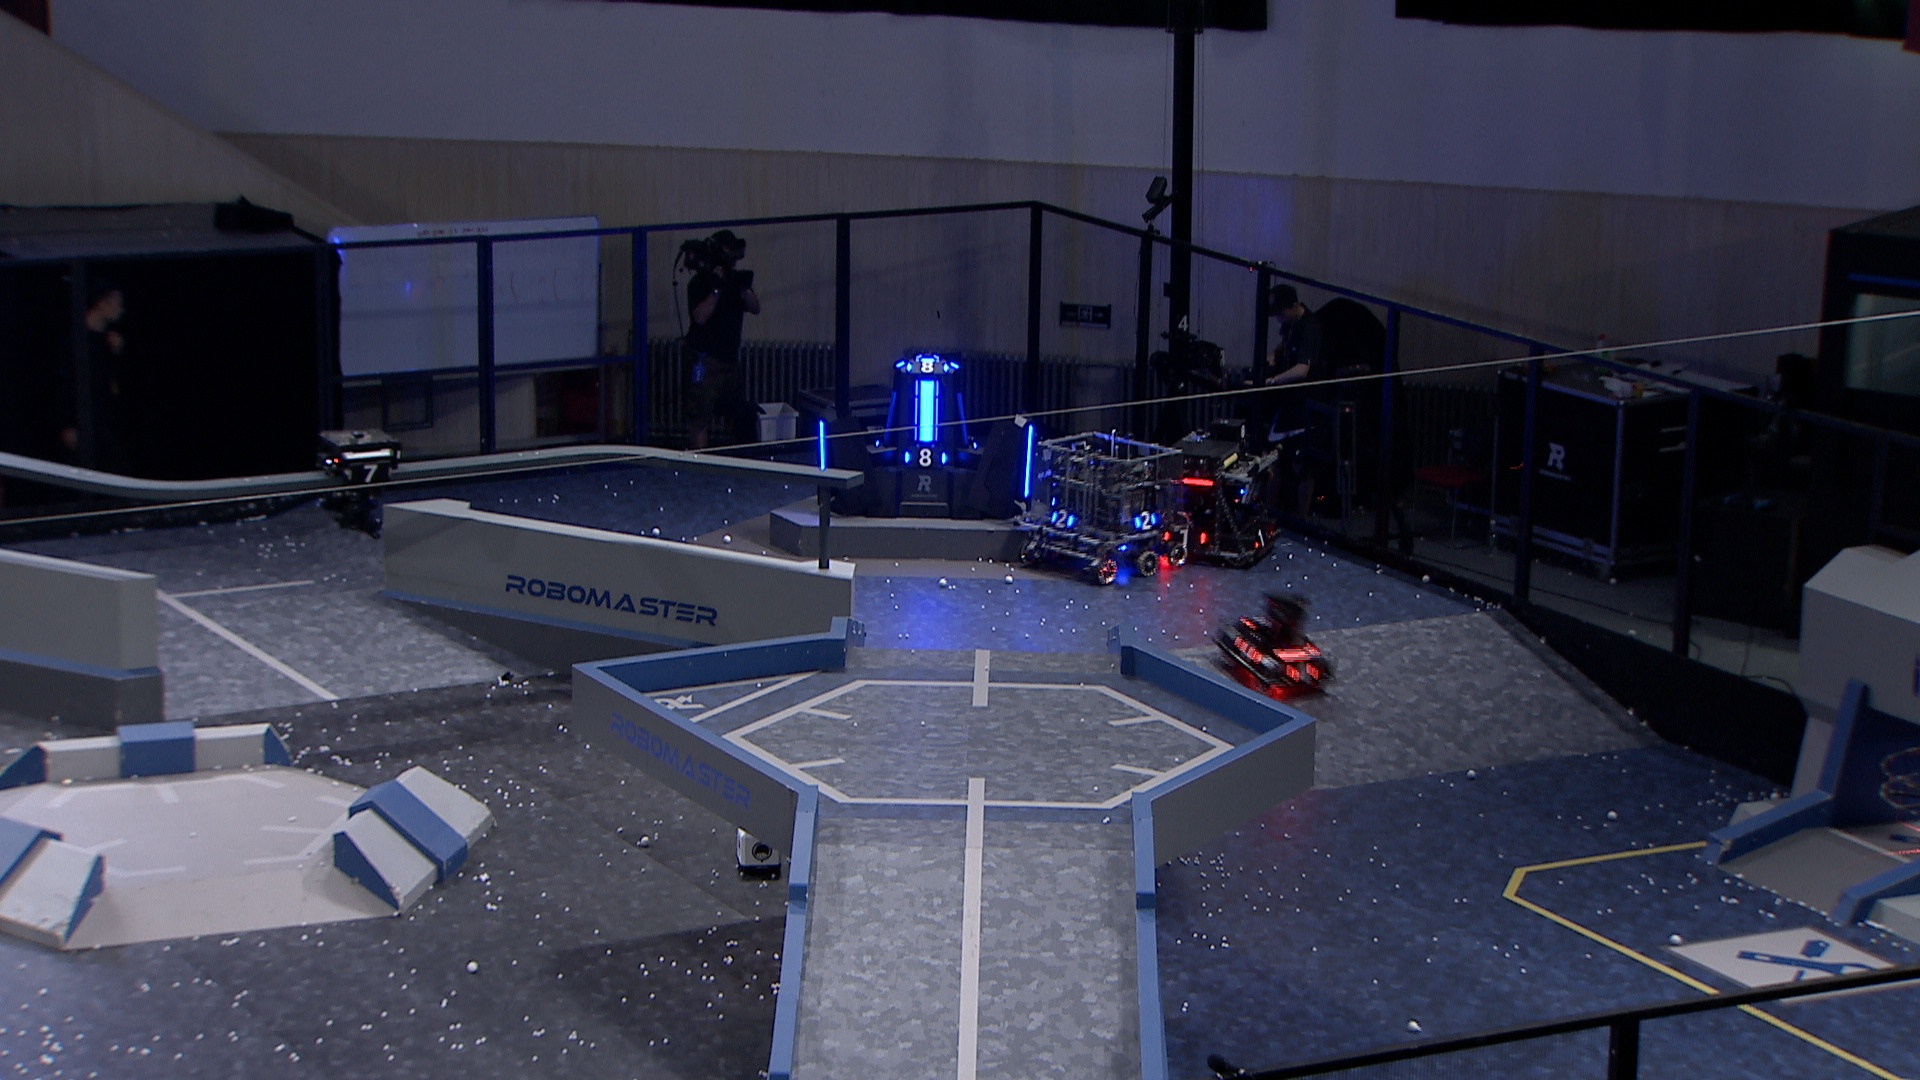armor: (344, 462, 396, 487), (1163, 526, 1211, 553), (918, 378, 936, 444), (1022, 425, 1036, 498), (880, 390, 899, 444), (1284, 659, 1320, 688), (902, 448, 949, 469), (953, 392, 971, 443), (1234, 636, 1263, 665), (907, 357, 949, 376), (1048, 505, 1077, 531), (1134, 509, 1159, 534), (818, 419, 828, 472), (1251, 527, 1275, 550), (1240, 613, 1271, 629)
base: (818, 353, 1039, 524)
car: (1017, 431, 1188, 585), (1153, 422, 1284, 572), (1211, 589, 1338, 698)
watcher: (311, 429, 404, 541)
